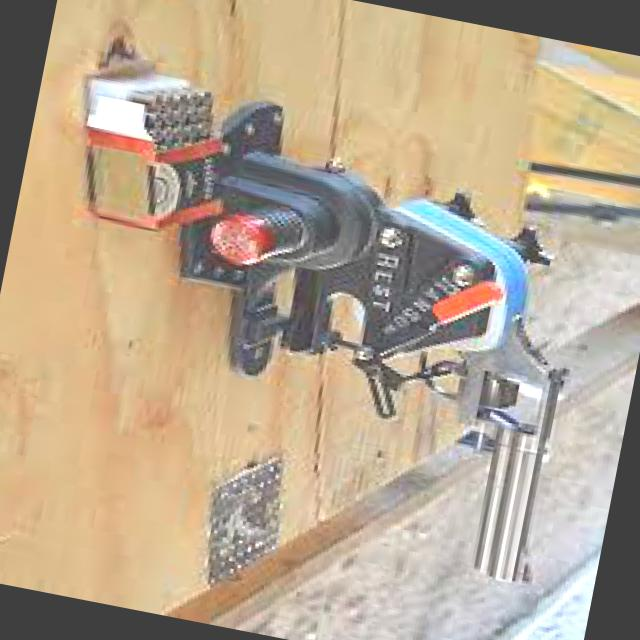handgun: (362, 225, 594, 594)
